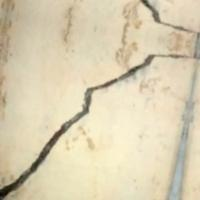crack: (3, 31, 199, 198)
